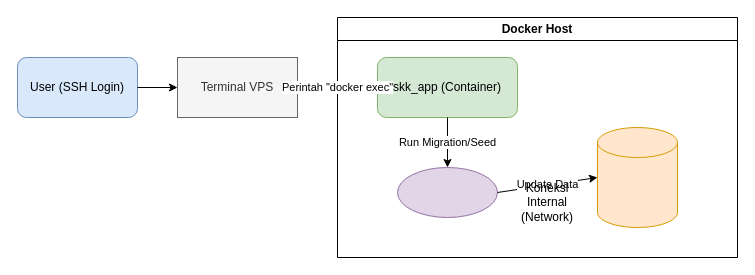
This 755x275 diagram has some shape labels left out. The shapes that lost their labels are listed below. From the top down, each one's centre as x and y in pixels, then its label:
At (x=447, y=192): "Artisan Engine".
At (x=637, y=177): "skk_db (MySQL)".
